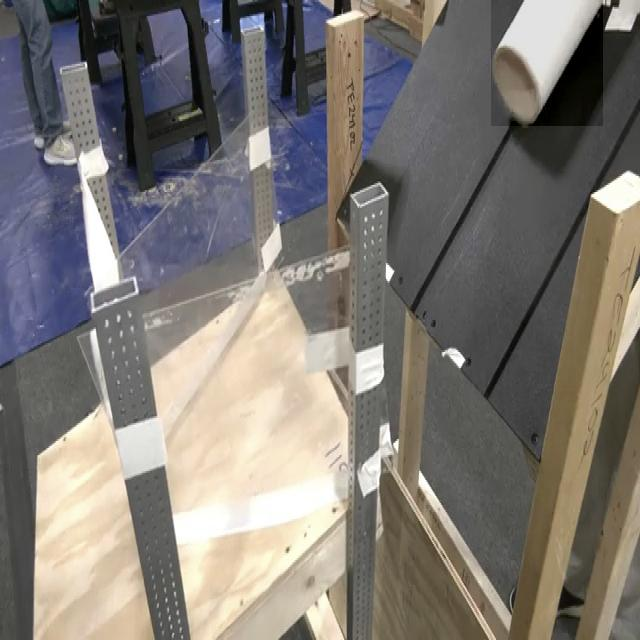Coral: (491, 0, 603, 126)
